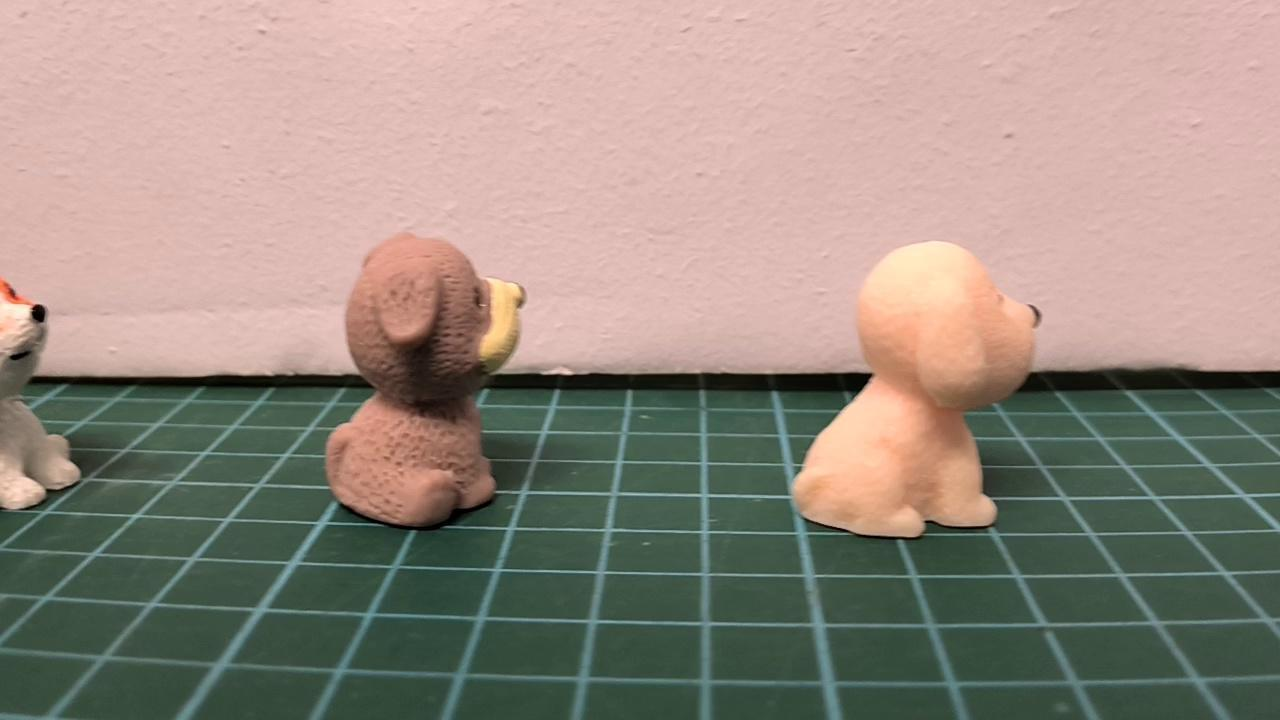pet: (790, 238, 1046, 541), (322, 235, 527, 531)
